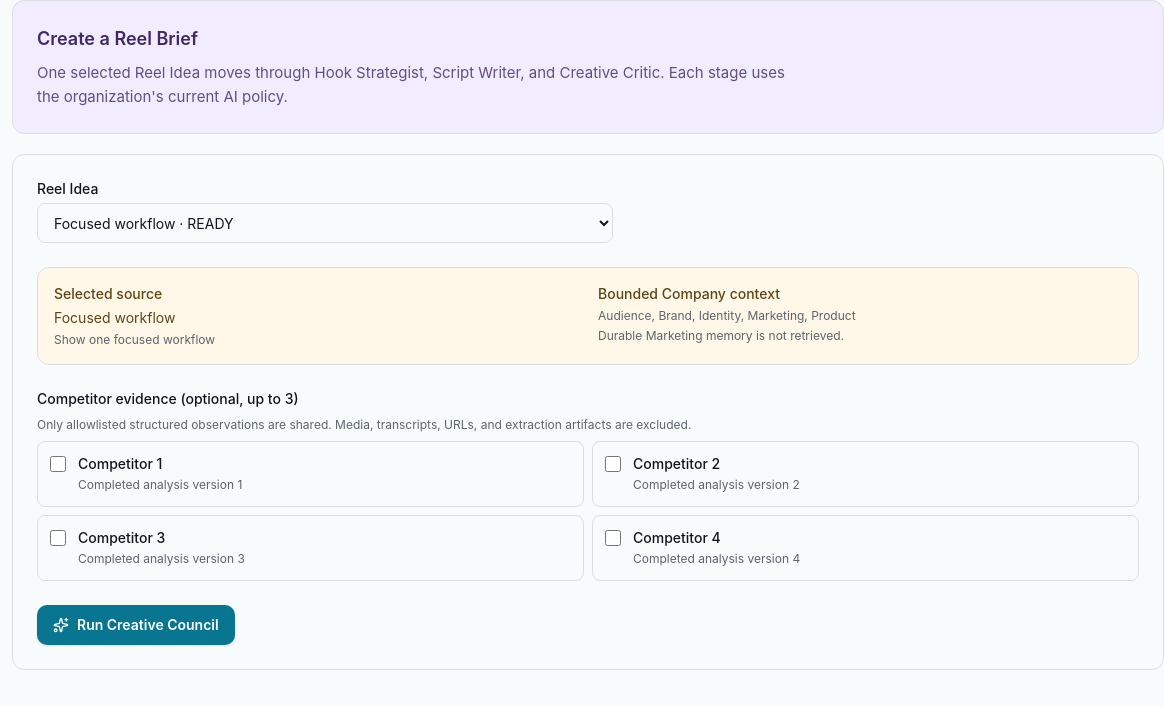
Test case: Creative Studio › renders one Reel Idea selector, bounded optional evidence, and the pending-safe action
Expected: the dropdown labelled "Reel Idea" shows "Focused workflow · READY", [37,203,613,243]
Expected: the button "Run Creative Council" is enabled, [37,605,235,645]
Click the checkbox labelled "Competitor 1 Completed analysis version 1" at (58, 464), box [50,456,66,472]
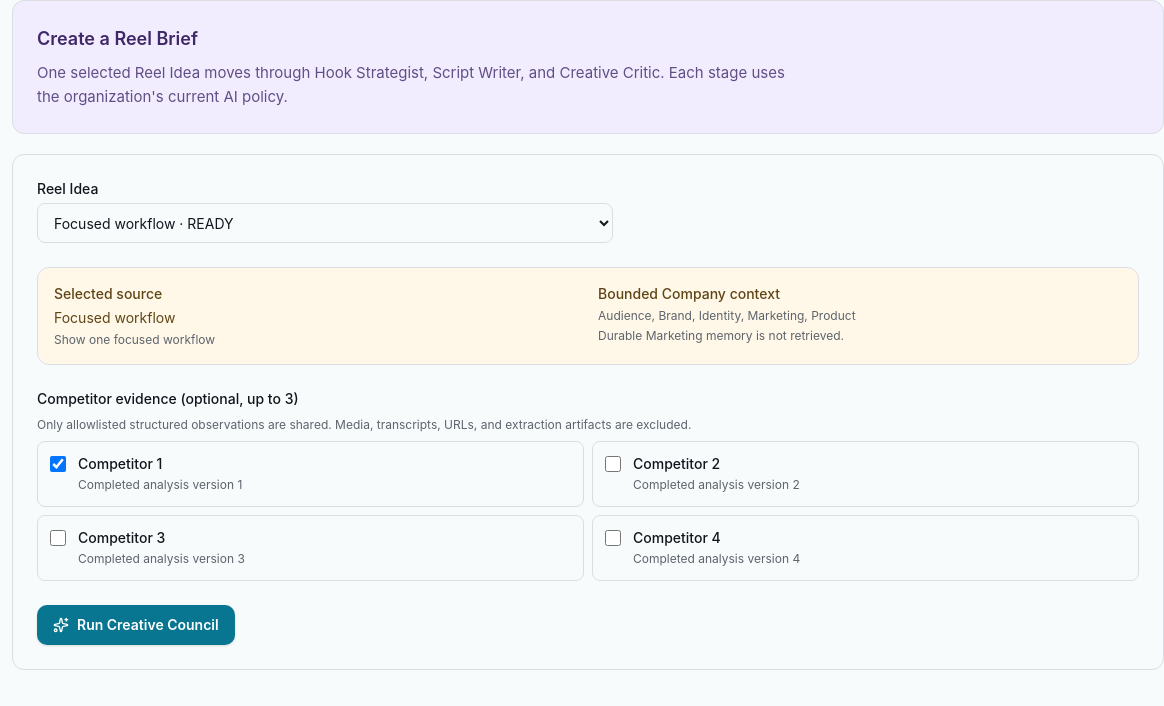
Click the checkbox labelled "Competitor 2 Completed analysis version 2" at (613, 464), box [605,456,621,472]
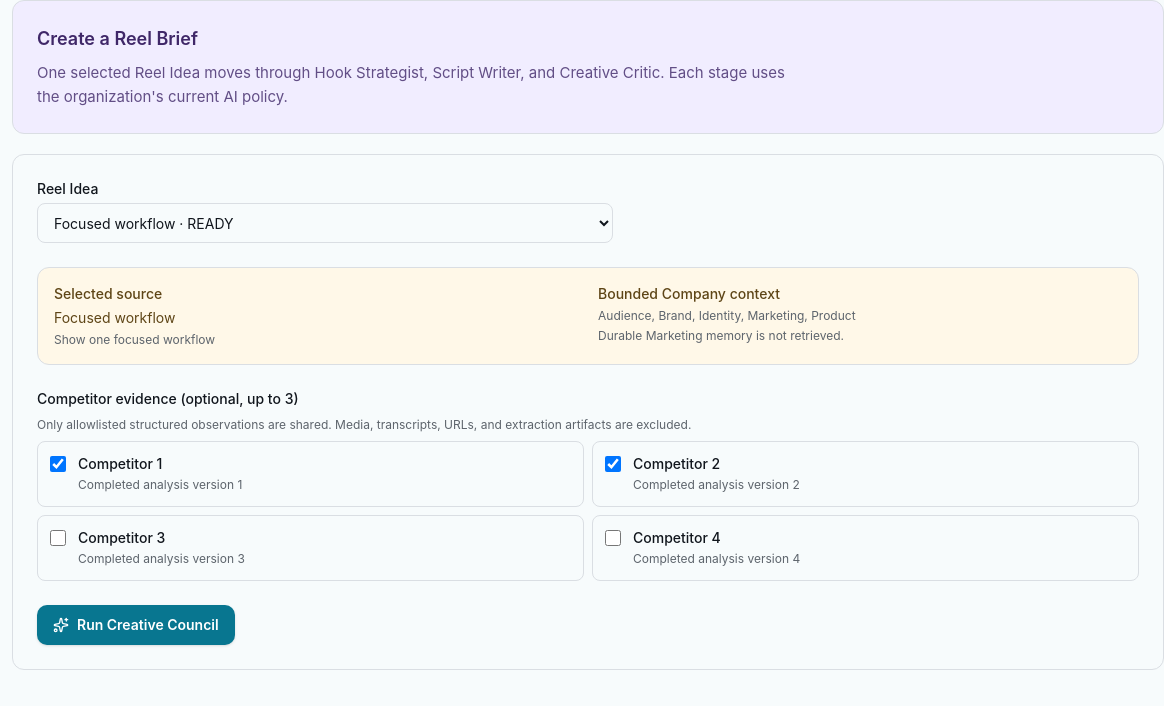
Click the checkbox labelled "Competitor 3 Completed analysis version 3" at (58, 538), box [50,530,66,546]
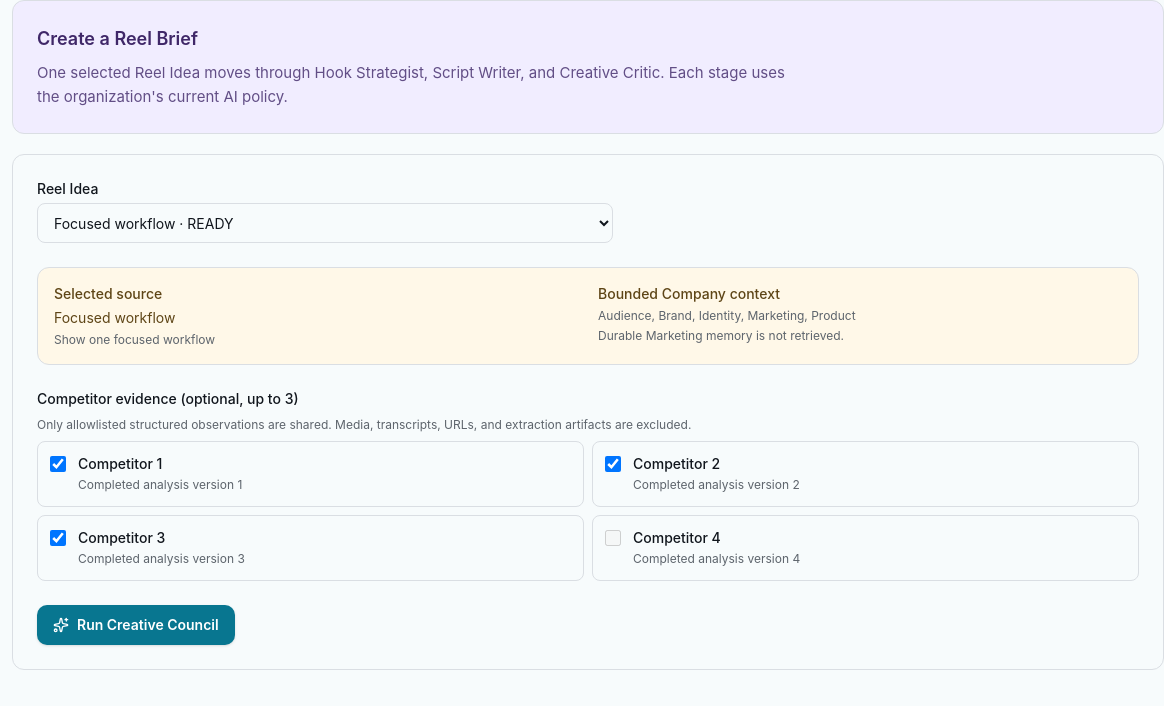
Expected: the checkbox labelled "Competitor 4 Completed analysis version 4" is disabled, [605,530,621,546]
